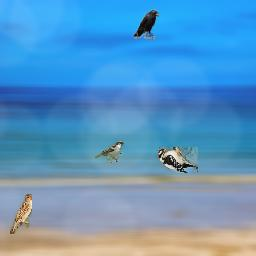Crow: (132, 9, 159, 40)
Sparrow: (10, 194, 32, 234), (95, 141, 124, 163)
Woodpecker: (158, 147, 198, 173)
